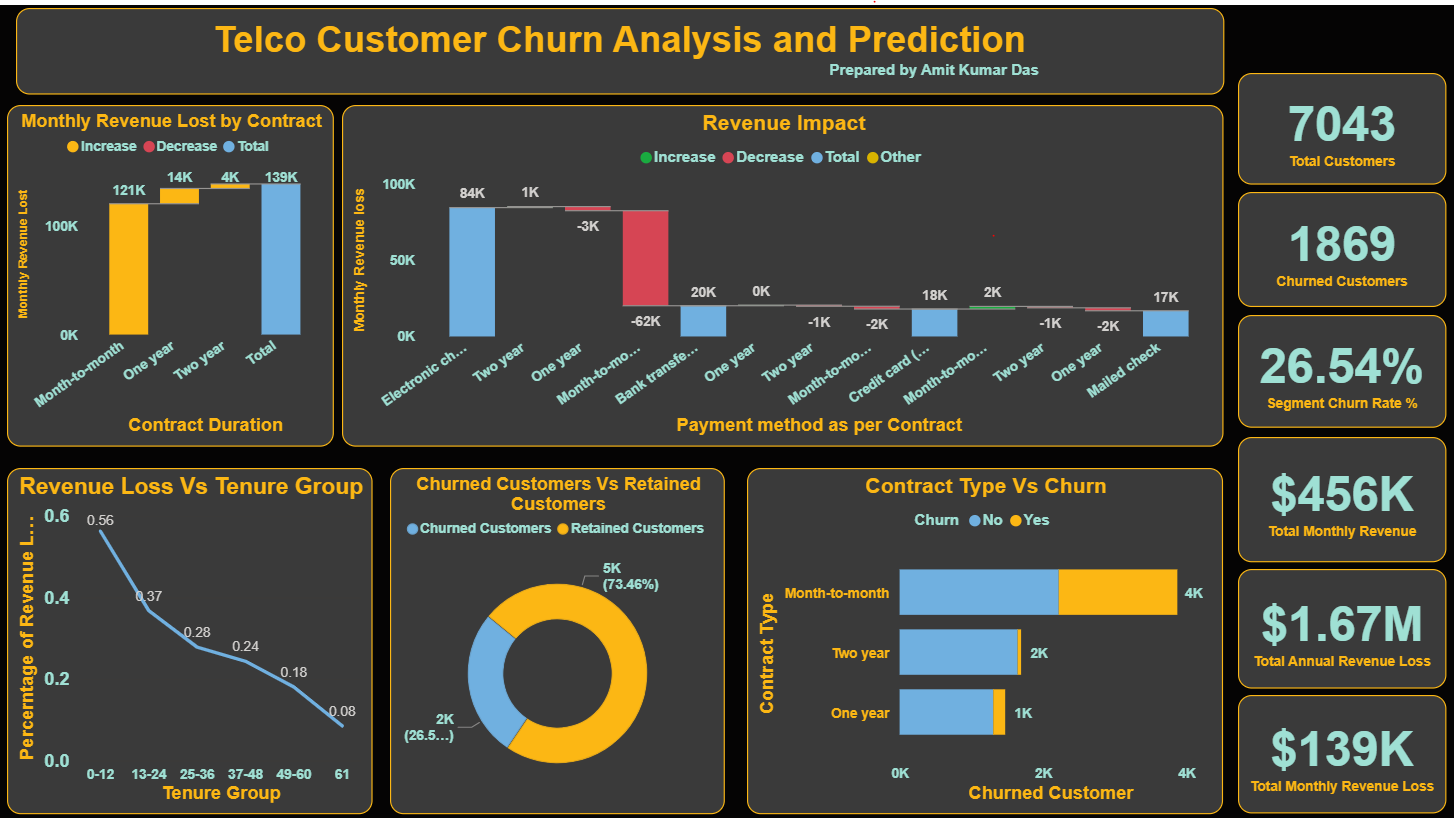

The dashboard page shown, as its layout file describes it:
{"tool":"powerbi","page":{"name":"Overview","canvas":[1280,720],"ordinal":0},"visuals":[{"type":"card","fields":{"Values":["DimContract.Total Customers"]},"box":[1090.5,63.2,182.6,98.3],"z":0},{"type":"card","fields":{"Values":["DimContract.Churned Customers"]},"box":[1090.5,167.7,182.6,101],"z":1000},{"type":"card","fields":{"Values":["DimContract.Revenue Lost (Monthly)"]},"box":[1090.5,609.4,182.6,104.5],"z":2000},{"type":"card","fields":{"Values":["DimContract.Segment Churn Rate %"]},"box":[1090.5,275.7,182.6,99.2],"z":3000},{"type":"lineChart","title":"Revenue Loss Vs Tenure Group","fields":{"Category":["DimTenure.TenureGroup"],"Y":["DimContract.% Revenue Lost"]},"box":[9.7,410,321.4,303.8],"z":4000},{"type":"donutChart","title":"Churned Customers Vs Retained Customers","fields":{"Y":["DimContract.Churned Customers","DimContract.Retained Customers"]},"box":[346,410,294.1,303.8],"z":5000},{"type":"waterfallChart","title":"Revenue Impact","fields":{"Breakdown":["DimContract.Contract"],"Category":["DimPaymentMethod.PaymentMethod"],"Y":["DimContract.Revenue Lost (Monthly)"]},"box":[303.5,91.4,774.2,299.6],"z":6000},{"type":"card","fields":{"Values":["DimContract.Total Monthly Revenue"]},"box":[1090.5,382.8,182.6,109.8],"z":7000},{"type":"card","fields":{"Values":["DimContract.Revenue Lost (Annualised)"]},"box":[1090.5,498.7,182.6,105.4],"z":8000},{"type":"waterfallChart","title":"Monthly Revenue Lost by Contract","fields":{"Category":["DimContract.Contract"],"Y":["DimContract.Revenue Lost (Monthly)"]},"box":[9.7,91.4,286.9,299.6],"z":9000},{"type":"textbox","box":[17.6,6.1,1060.7,76.4],"z":10000},{"type":"barChart","title":"Contract Type Vs Churn","fields":{"Category":["DimContract.Contract"],"Series":["FactCustomers.Churn"],"Y":["DimContract.Total Customers"]},"box":[659.4,410,418,303.8],"z":11000}]}

Visuals, with their boxes in screenshot pixels (x1, y1, x2, y2), scaled from the page's 1280x720 canvas onto the 1454x818 screenshot:
card - DimContract.Total Customers: 1239,72,1446,183
card - DimContract.Churned Customers: 1239,191,1446,305
card - DimContract.Revenue Lost (Monthly): 1239,692,1446,811
card - DimContract.Segment Churn Rate %: 1239,313,1446,426
"Revenue Loss Vs Tenure Group" lineChart: 11,466,376,811
"Churned Customers Vs Retained Customers" donutChart: 393,466,727,811
"Revenue Impact" waterfallChart: 345,104,1224,444
card - DimContract.Total Monthly Revenue: 1239,435,1446,560
card - DimContract.Revenue Lost (Annualised): 1239,567,1446,686
"Monthly Revenue Lost by Contract" waterfallChart: 11,104,337,444
textbox: 20,7,1225,94
"Contract Type Vs Churn" barChart: 749,466,1224,811
